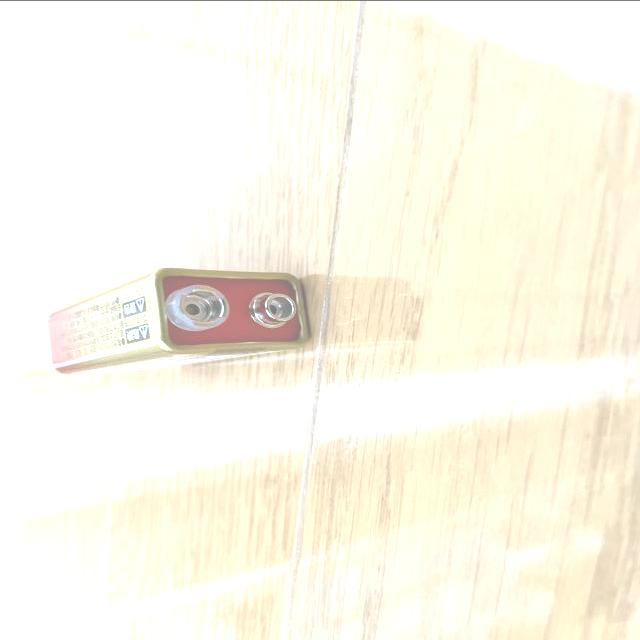9V: (47, 267, 311, 374)
